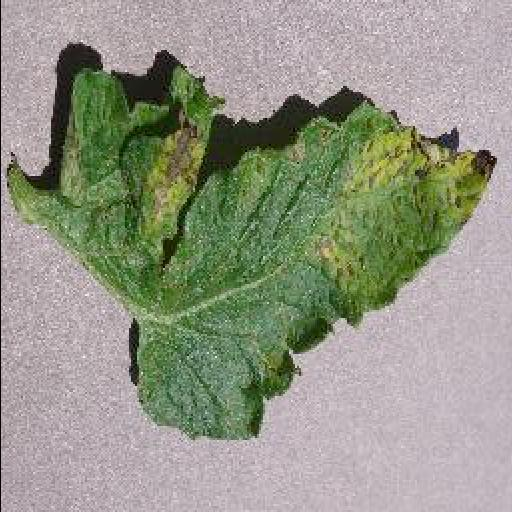disease_tomato: (60, 62, 500, 442)
